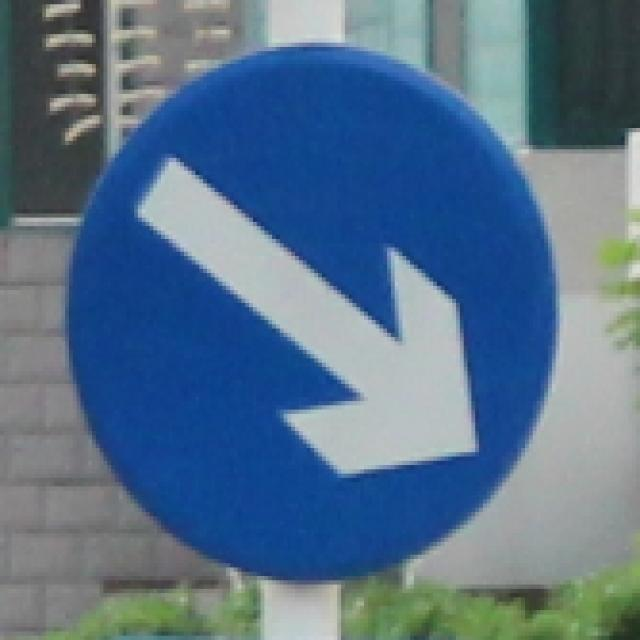Right: (61, 39, 558, 576)
